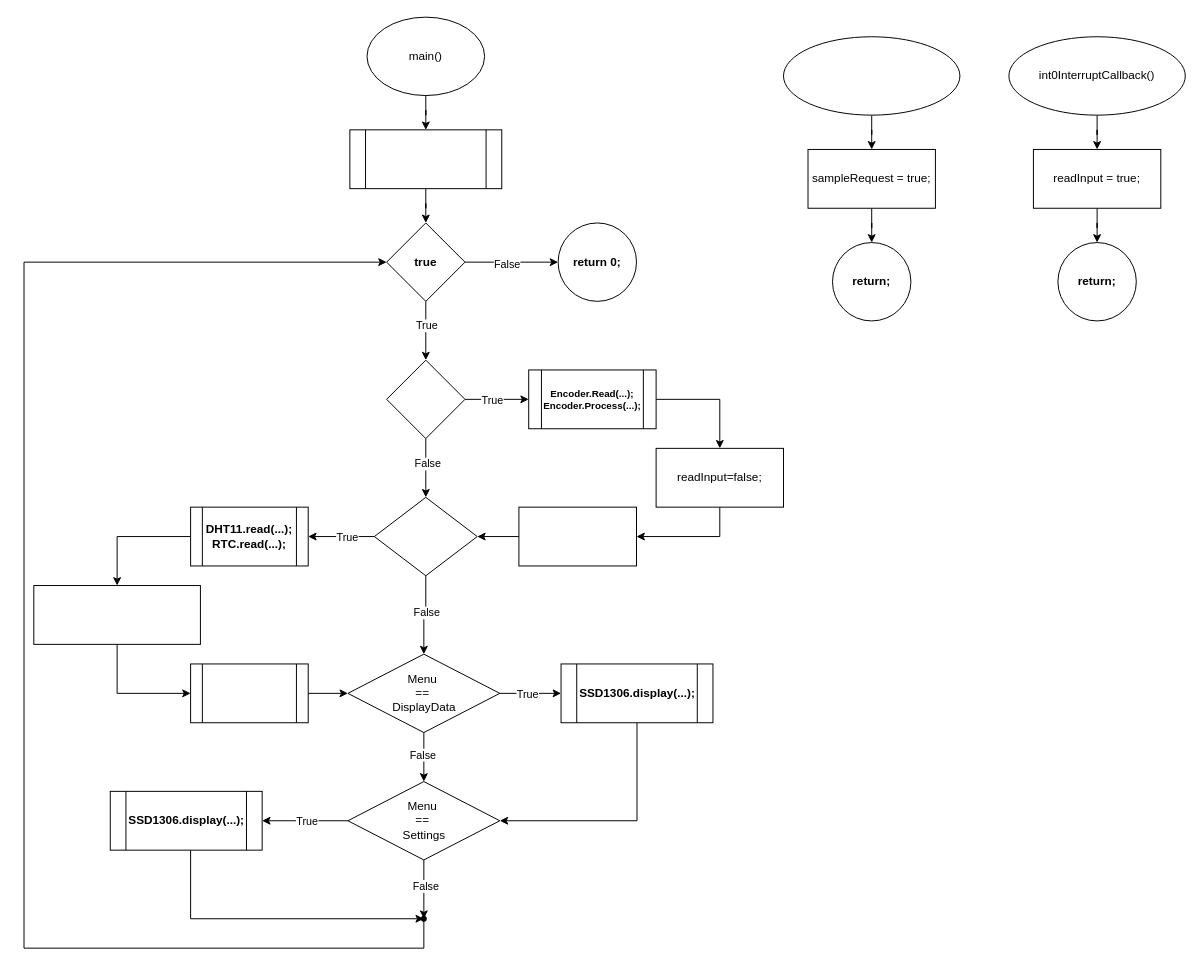
Image size: 1202x973. Some labels were removed from this diagram. Here are the shapes that lost their labels. From the top down, the box of each, then its label:
(783, 36, 960, 115): timer1CompareACallback()
(349, 129, 502, 189): Setup();
(386, 359, 465, 439): readInput
(373, 496, 477, 576): sampleRequest
(518, 506, 637, 566): MENU = Encoder.data(...);
(33, 585, 200, 644): sampleRequest=False; SampleBuffer = sampledData;
(190, 663, 308, 723): SD.write(...);
